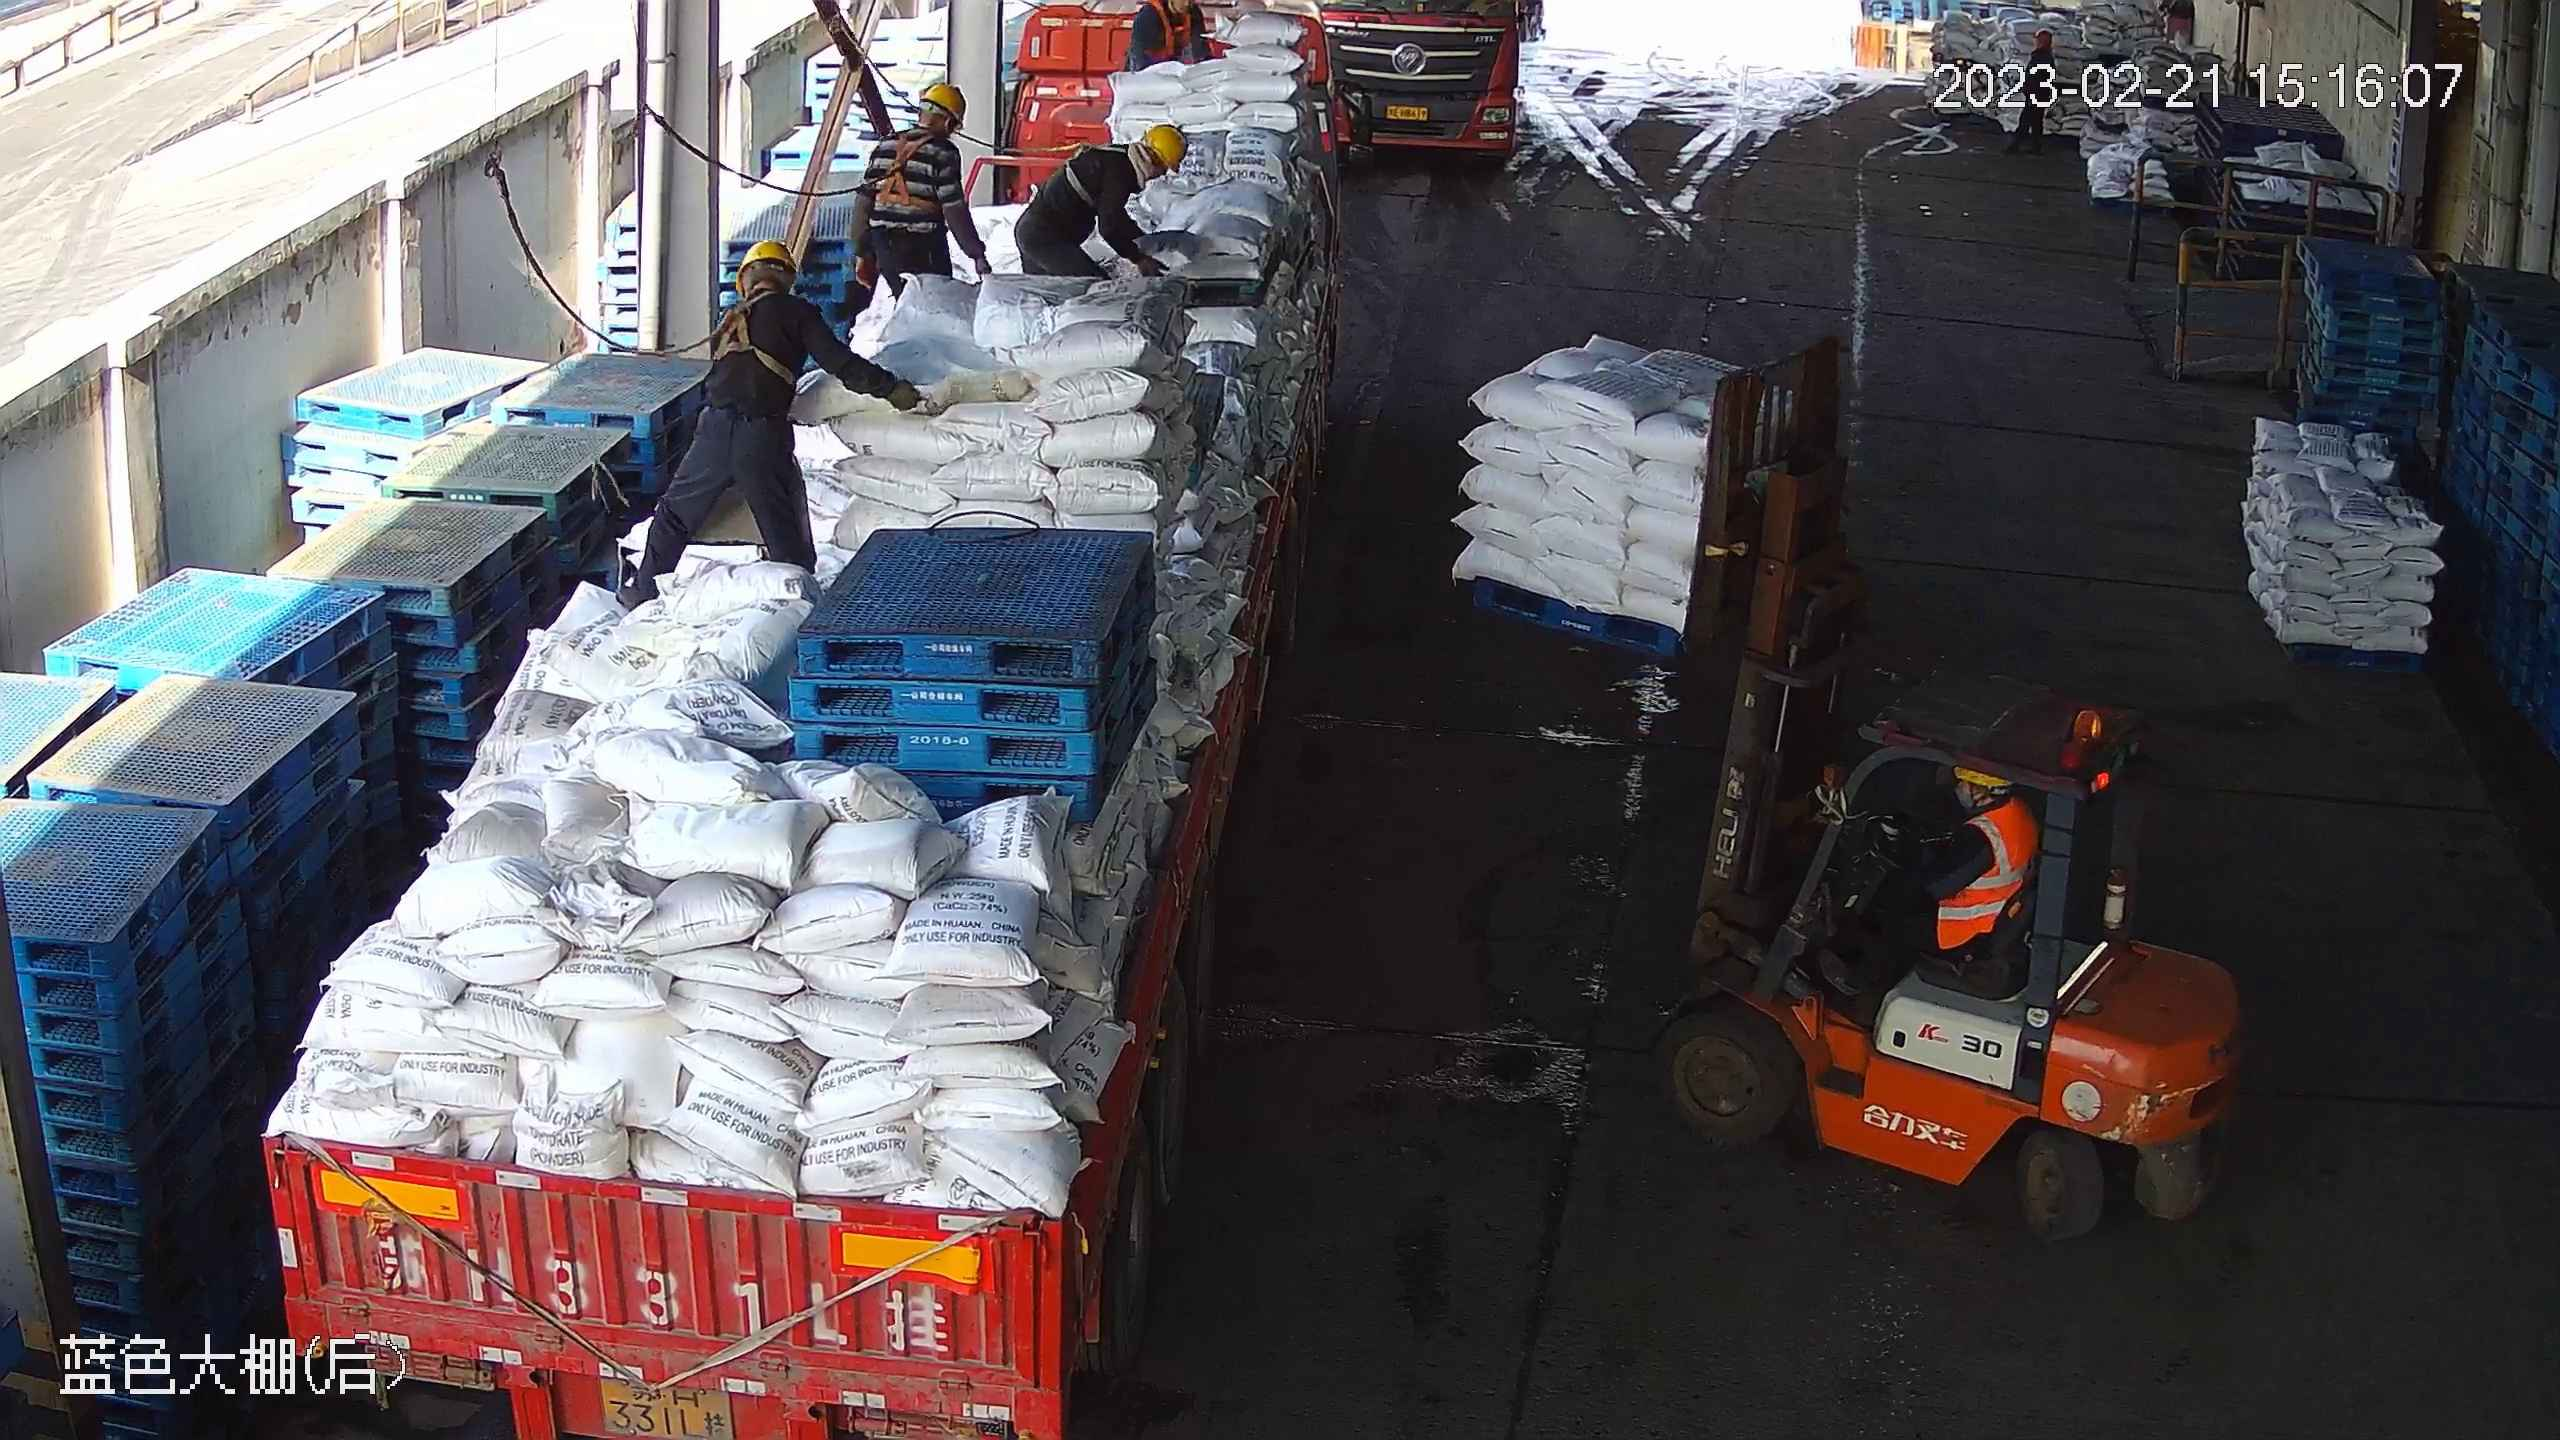belt: (714, 284, 812, 386), (1065, 134, 1145, 201), (875, 134, 940, 214)
head: (714, 242, 840, 347), (1933, 760, 2036, 882), (864, 81, 972, 173), (1079, 114, 1186, 205)
helmet: (731, 227, 803, 282), (916, 79, 968, 134), (1144, 121, 1198, 166)
people: (631, 238, 847, 596), (1842, 747, 2031, 995), (844, 73, 999, 299)
truck: (249, 5, 1331, 1423), (1322, 1, 1555, 164)
